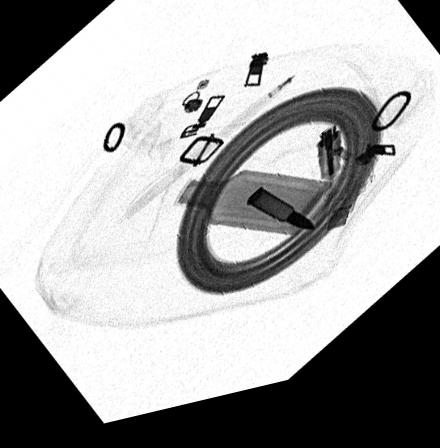Bullet: (244, 198, 315, 244)
